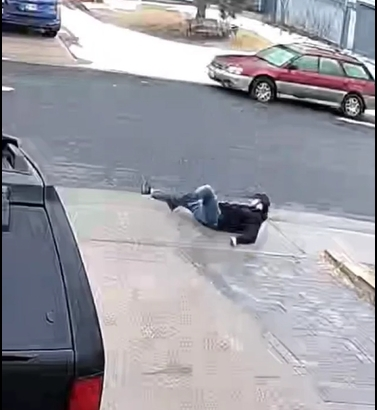fall: (140, 163, 284, 249)
